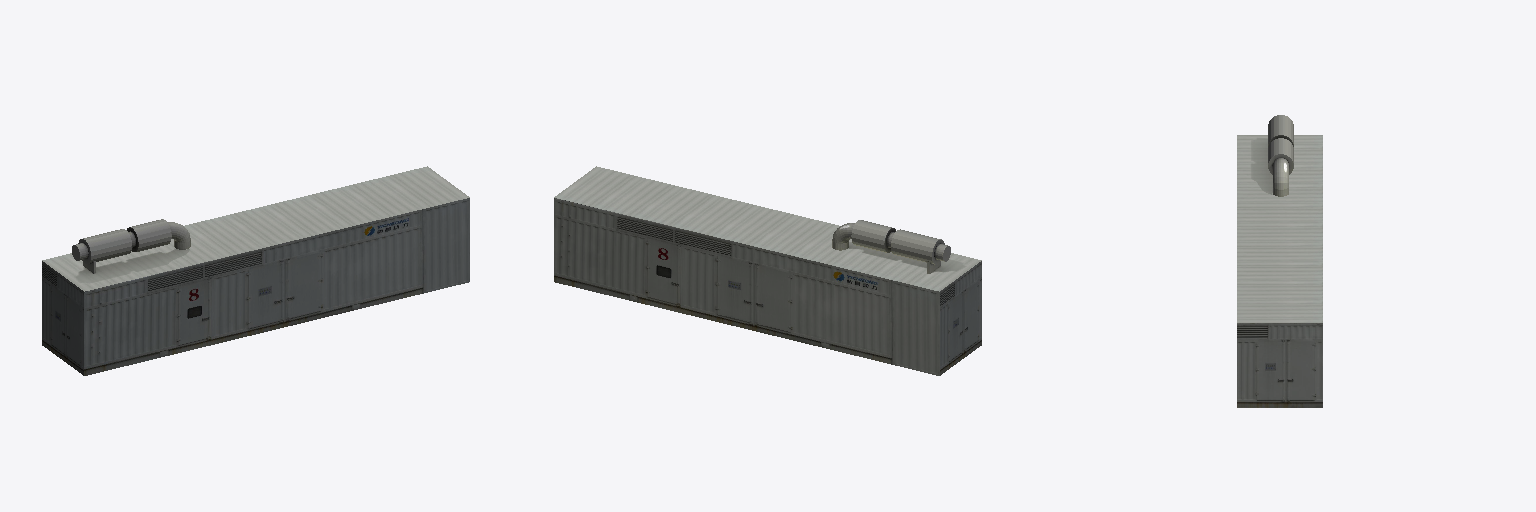
3 renders of one model, left to right at view 1: azimuth 30°, elevation 25°; view 2: azimuth 150°, elevation 25°; view 3: azimuth 270°, elevation 25°, orthographic.
Visible parts, largest first — view 1: Box04; view 2: Box04; view 3: Box04.
Part boxes in pixels (bbox=[...]): Box04: bbox=[42, 166, 469, 375]; Box04: bbox=[554, 166, 981, 375]; Box04: bbox=[1237, 115, 1322, 407].
Size of the model in its own units: 182 by 51.79 by 34.88.
1 materials, 1 textured.